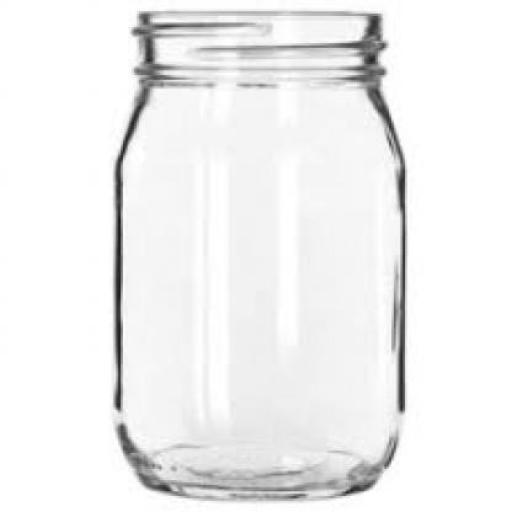glass: (112, 6, 406, 499)
